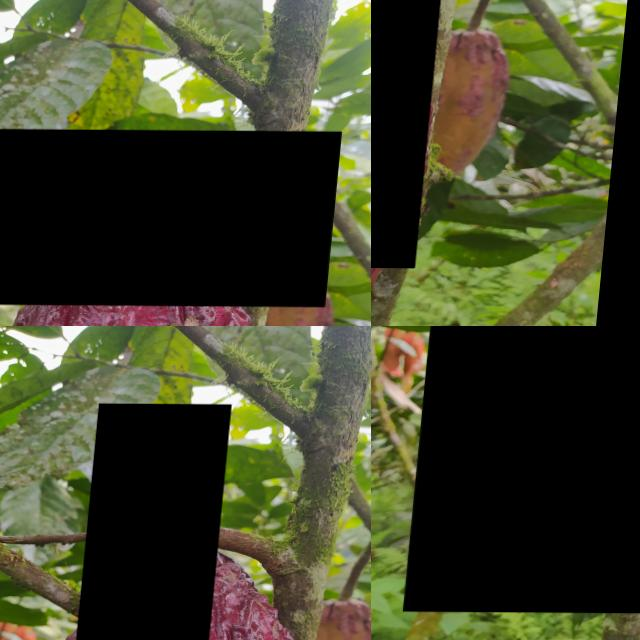Fitoftora: (414, 326, 640, 612), (81, 403, 233, 640), (371, 0, 458, 267), (308, 411, 371, 639)
Sana: (0, 128, 344, 306)
